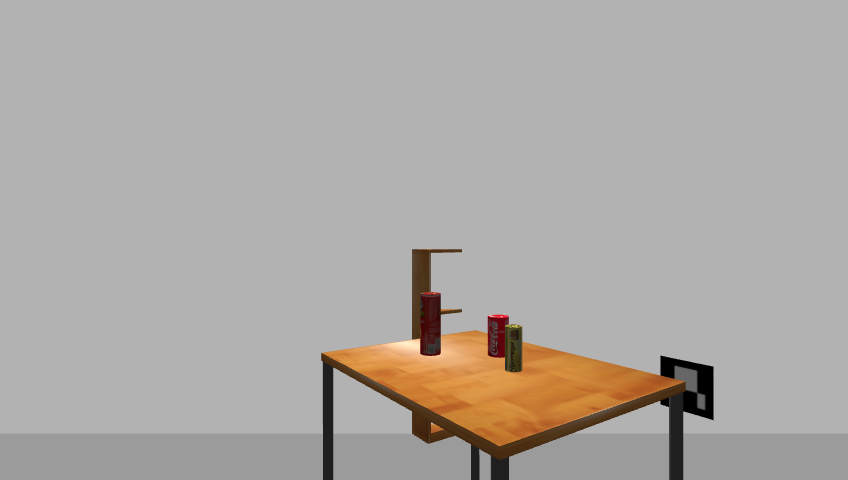aruco marker: (655, 354, 719, 422)
biscuits pack: (506, 325, 524, 373)
bookshelf: (407, 244, 466, 448), (409, 245, 465, 365)
coke can: (486, 314, 509, 359)
dinner table: (314, 330, 695, 480)
pringles can: (418, 292, 443, 358)
